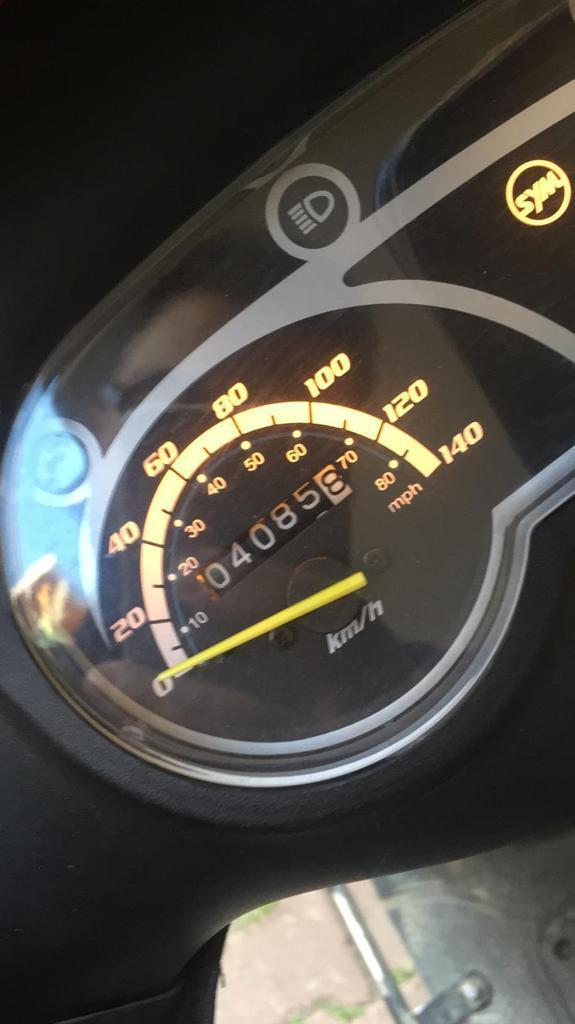0: (248, 522, 277, 550), (204, 561, 231, 589), (212, 476, 227, 489), (192, 518, 206, 531)
4: (230, 541, 251, 568), (206, 482, 219, 495)
5: (291, 481, 321, 510)
8: (269, 501, 299, 530), (321, 469, 346, 494)
odometer: (196, 463, 356, 600)
